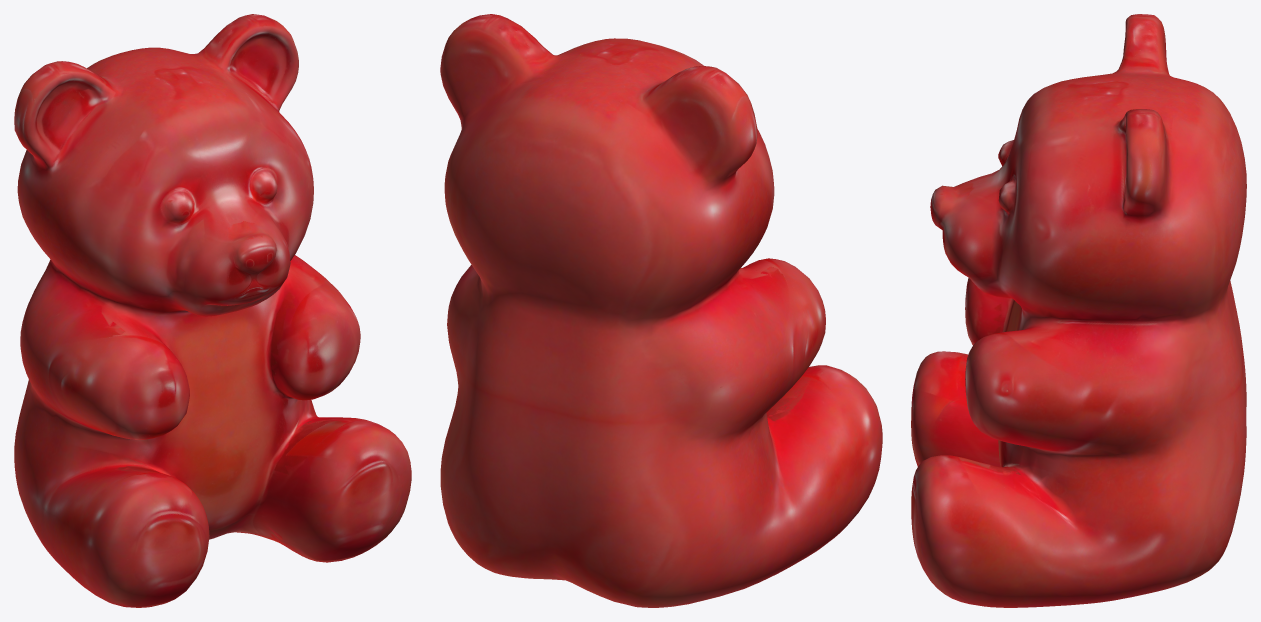
Rendered from jelibon.glb.
3 renders of one model, left to right at view 1: azimuth 30°, elevation 25°; view 2: azimuth 150°, elevation 25°; view 3: azimuth 270°, elevation 25°, orthographic. The views are drawn at different scales.
Size of the model in its own units: 1.36 by 2 by 1.25.
Materials: 1 (1 with a texture image).
